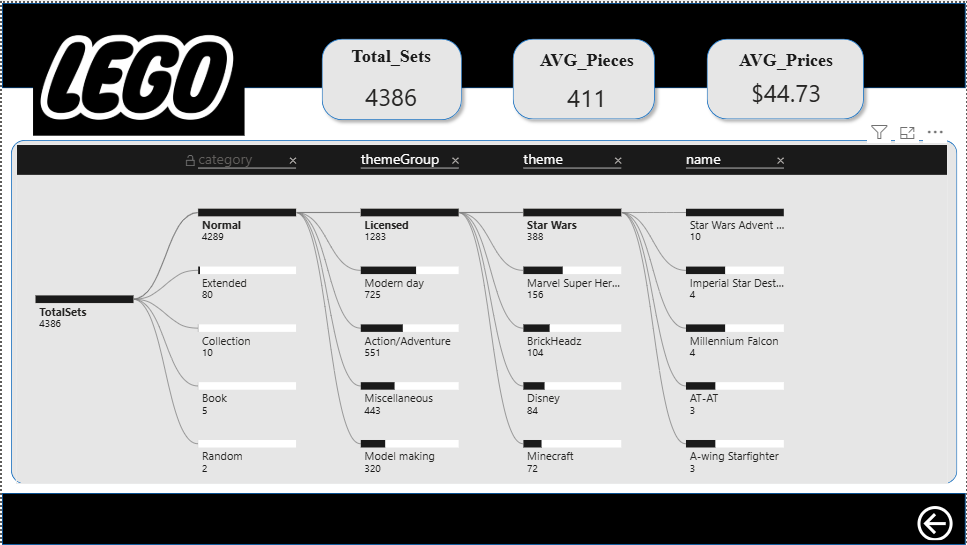

What the dashboard file says about the page in this screenshot:
{"tool":"powerbi","page":{"name":"Explore sets","canvas":[1280,720],"ordinal":1},"visuals":[{"type":"shape","box":[0,651,1280,68.8],"z":0},{"type":"shape","box":[0,0,1280,113.3],"z":1000},{"type":"shape","box":[926.7,39,226.7,125],"z":2000},{"type":"shape","box":[670,39,206.7,125],"z":3000},{"type":"shape","box":[416,38,204,126],"z":4000},{"type":"image","box":[29.3,13.2,305.9,168.3],"z":5000},{"type":"card","title":"Total_Sets","fields":{"Values":["Calculation.TotalSets"]},"box":[414.1,57.2,204.9,109.8],"z":6000},{"type":"card","title":"AVG_Pieces","fields":{"Values":["Calculation.AVG_Pieces"]},"box":[686.2,57.3,179.9,108.3],"z":7000},{"type":"card","title":"AVG_Prices","fields":{"Values":["Calculation.AVG_Price"]},"box":[952,57.3,178.3,93.9],"z":8000},{"type":"shape","box":[11.4,181.4,1257.1,457.1],"z":9000},{"type":"decompositionTreeVisual","fields":{"Analyze":["Calculation.TotalSets"],"ExplainBy":["lego_sets.category","lego_sets.themeGroup","lego_sets.theme","lego_sets.name"]},"box":[18.6,187.3,1238.1,451.7],"z":10000},{"type":"actionButton","box":[1210.2,650.9,58.5,62.4],"z":11000}]}

Visuals, with their boxes on the page's 1280x720 design canvas (x1, y1, x2, y2). These are canvas units, not pixel positions in the 967x545 screenshot, which may show the page scaled, cropped or inside an application window:
shape: {"x1": 0, "y1": 651, "x2": 1280, "y2": 720}
shape: {"x1": 0, "y1": 0, "x2": 1280, "y2": 113}
shape: {"x1": 927, "y1": 39, "x2": 1153, "y2": 164}
shape: {"x1": 670, "y1": 39, "x2": 877, "y2": 164}
shape: {"x1": 416, "y1": 38, "x2": 620, "y2": 164}
image: {"x1": 29, "y1": 13, "x2": 335, "y2": 182}
"Total_Sets" card: {"x1": 414, "y1": 57, "x2": 619, "y2": 167}
"AVG_Pieces" card: {"x1": 686, "y1": 57, "x2": 866, "y2": 166}
"AVG_Prices" card: {"x1": 952, "y1": 57, "x2": 1130, "y2": 151}
shape: {"x1": 11, "y1": 181, "x2": 1268, "y2": 638}
decompositionTreeVisual - Calculation.TotalSets x lego_sets.category: {"x1": 19, "y1": 187, "x2": 1257, "y2": 639}
actionButton: {"x1": 1210, "y1": 651, "x2": 1269, "y2": 713}
